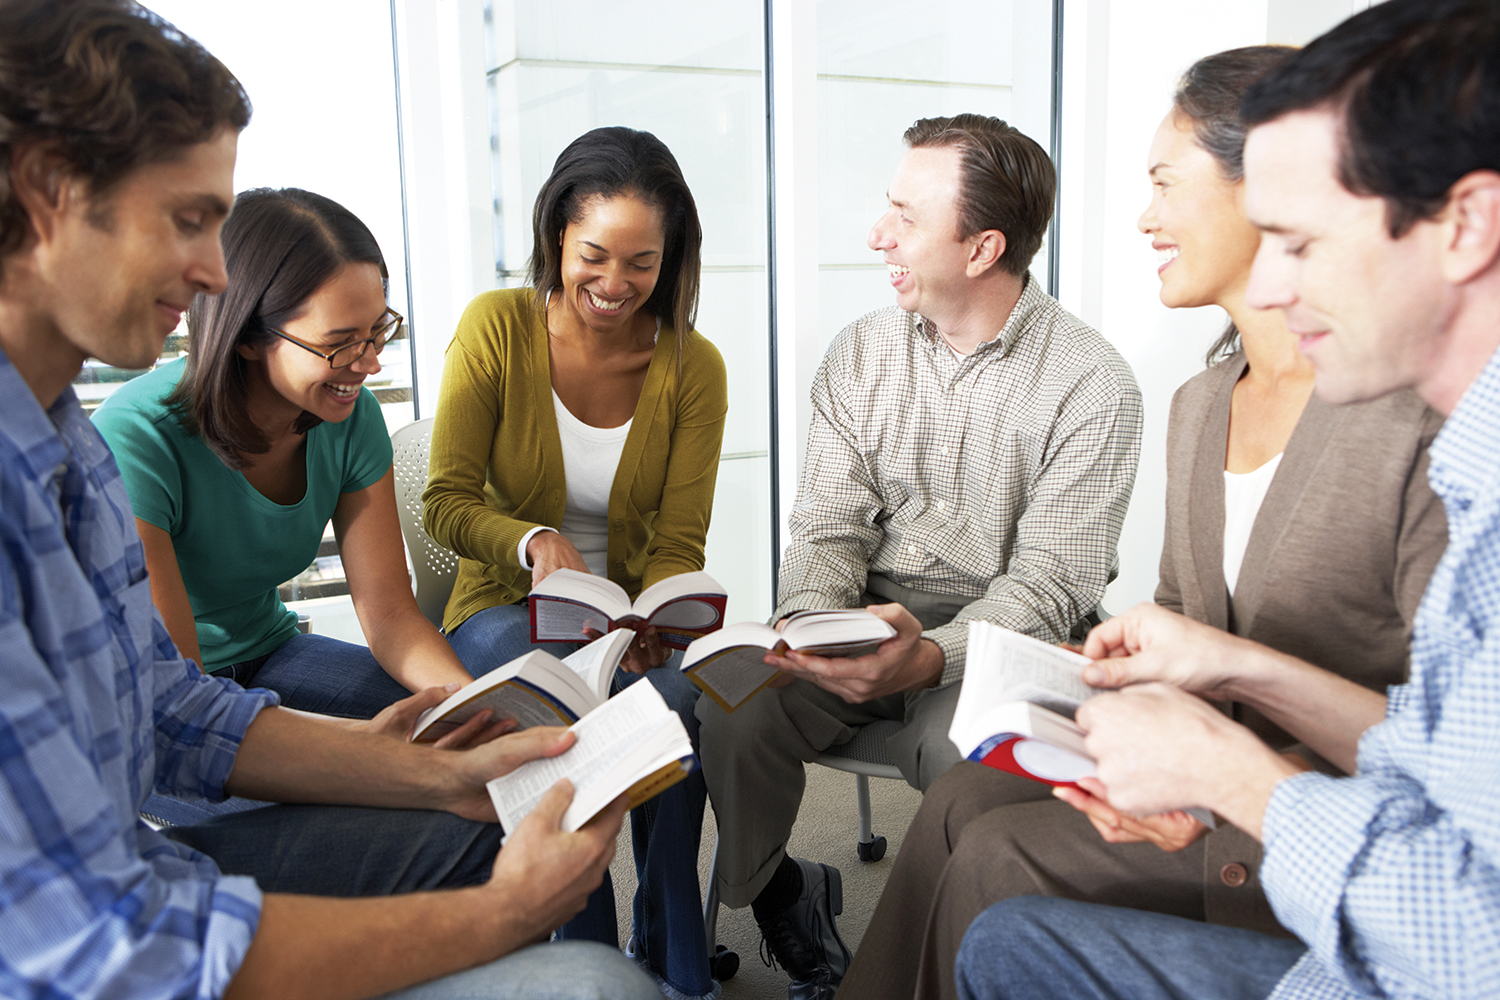Person: (1, 7, 235, 953), (1250, 76, 1500, 915), (842, 138, 1112, 830), (473, 138, 712, 684), (250, 169, 388, 923)
